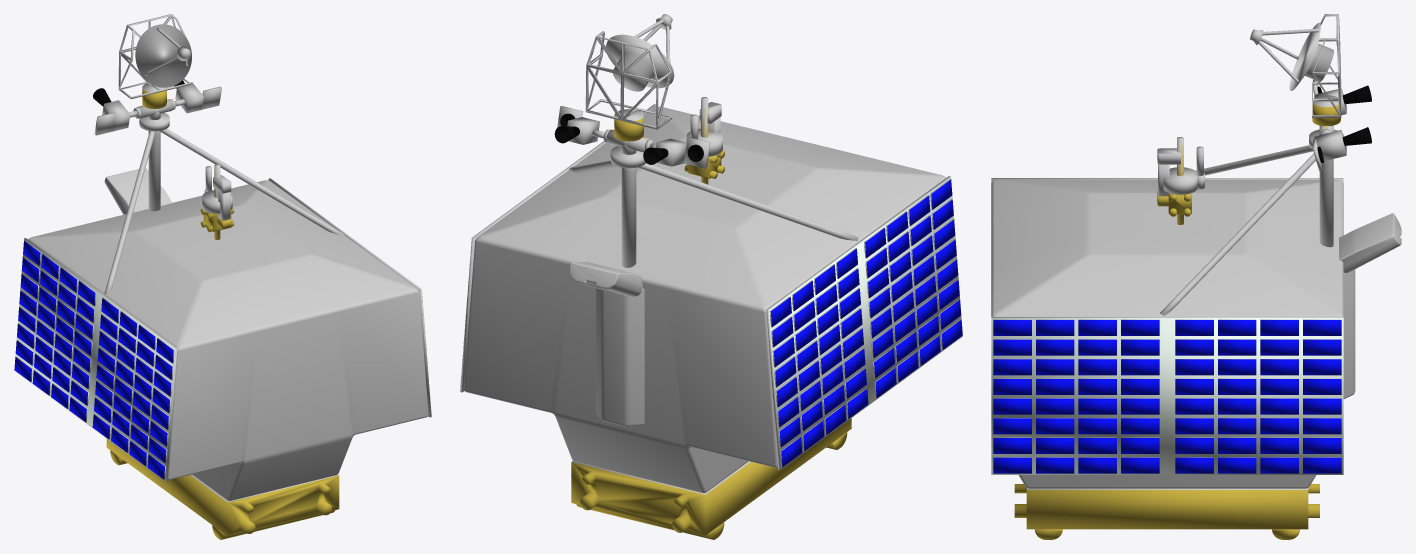
File: body_new_test.obj
3 views of the same model, side by side, from view 1: azimuth 30°, elevation 25°; view 2: azimuth 150°, elevation 25°; view 3: azimuth 270°, elevation 25° (orthographic). The views are drawn at different scales.
Visible parts, largest first — view 1: body; view 2: body; view 3: body.
Part boxes in pixels (x1,y1,x2,y2): body: (14,14,431,539); body: (460,14,962,539); body: (991,14,1401,539).
Bounding box in the file's own units: 1.53 × 2.26 × 1.75.
